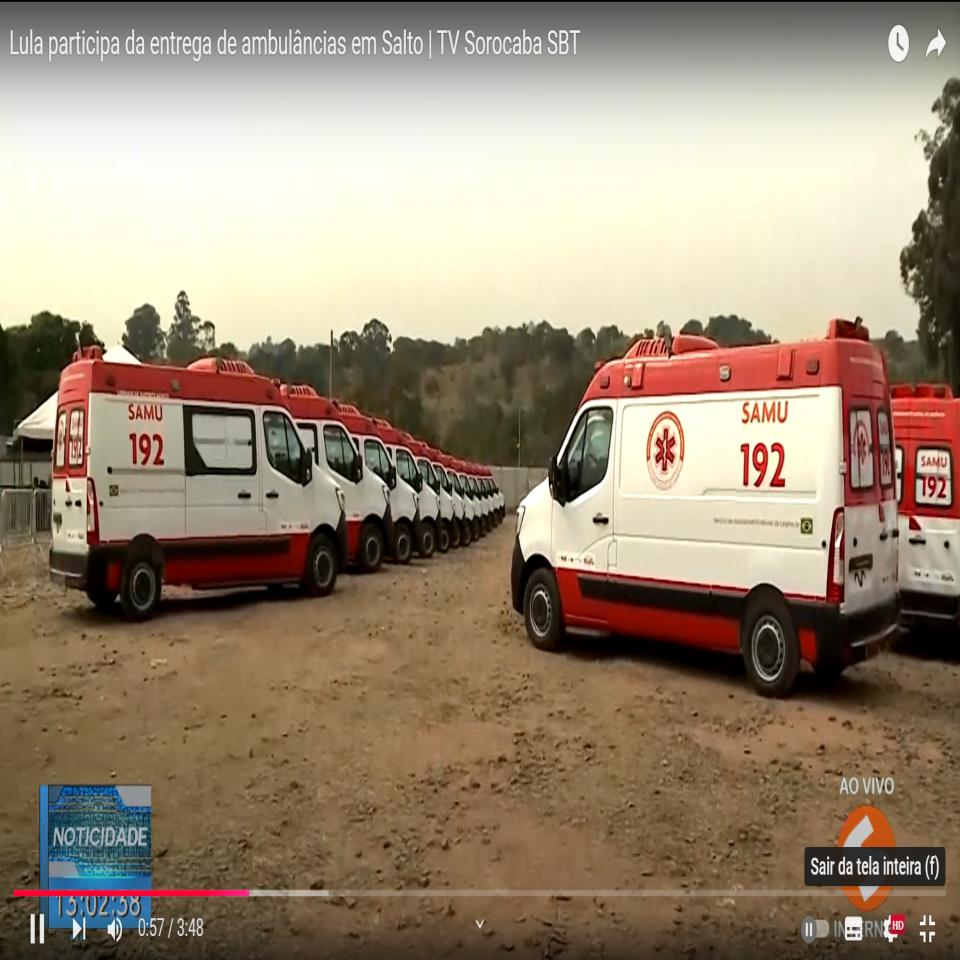bombeiro: (512, 316, 905, 690), (47, 337, 349, 624)
